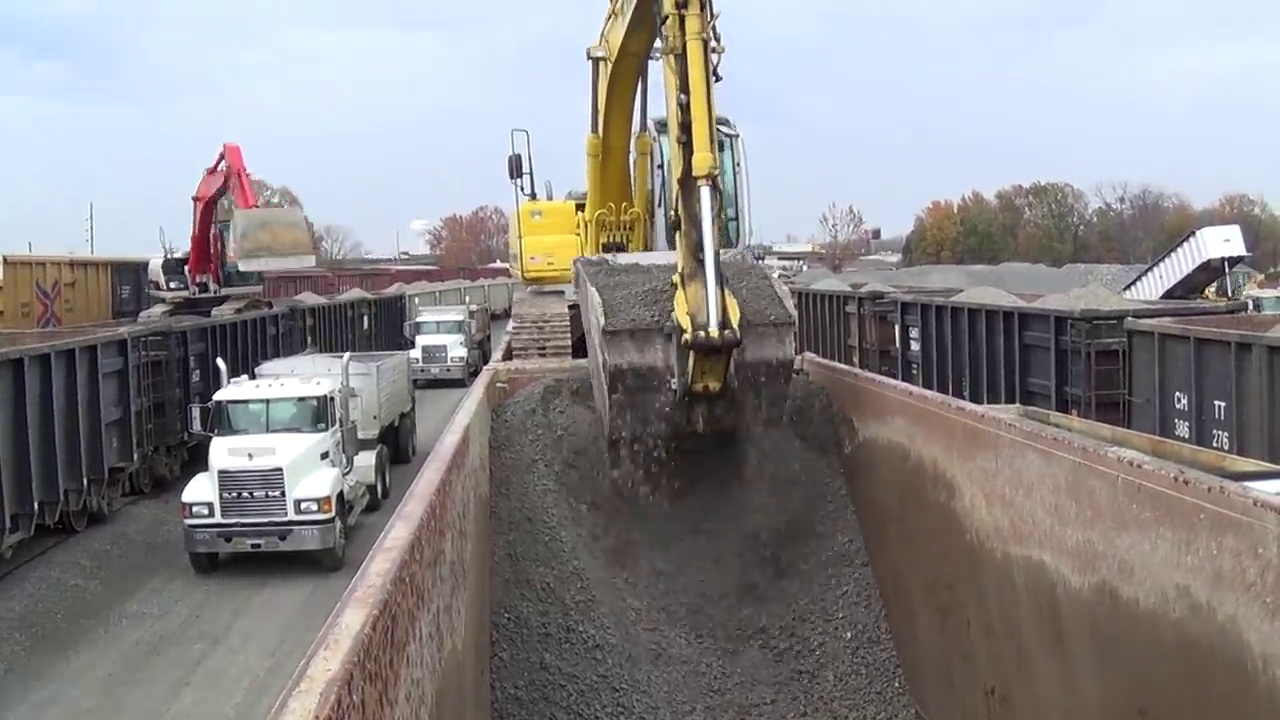excavator: (510, 1, 803, 492), (137, 144, 317, 336)
truck: (179, 351, 419, 569), (407, 304, 491, 389)
